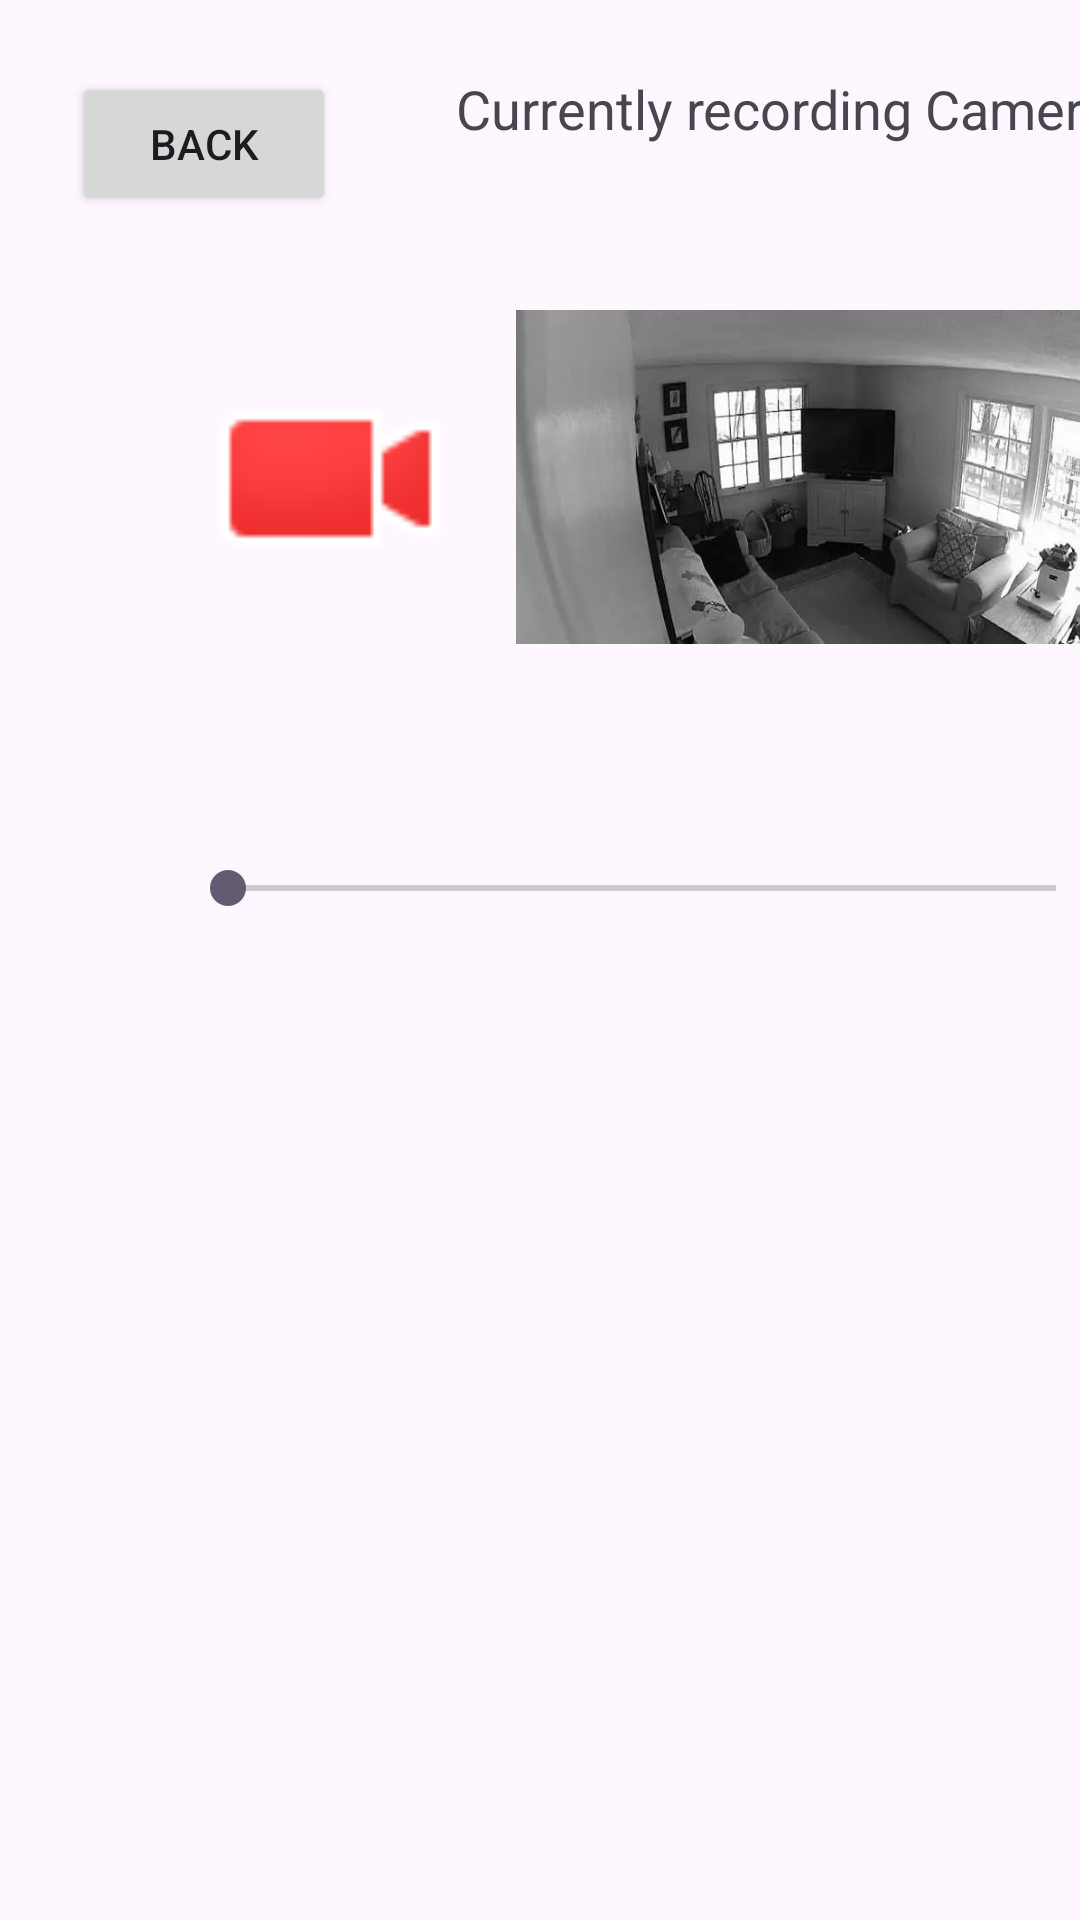

Where to tap for icons on this 1080px×1920px app screen, as (x,y):
presence video busy: (330,478)
